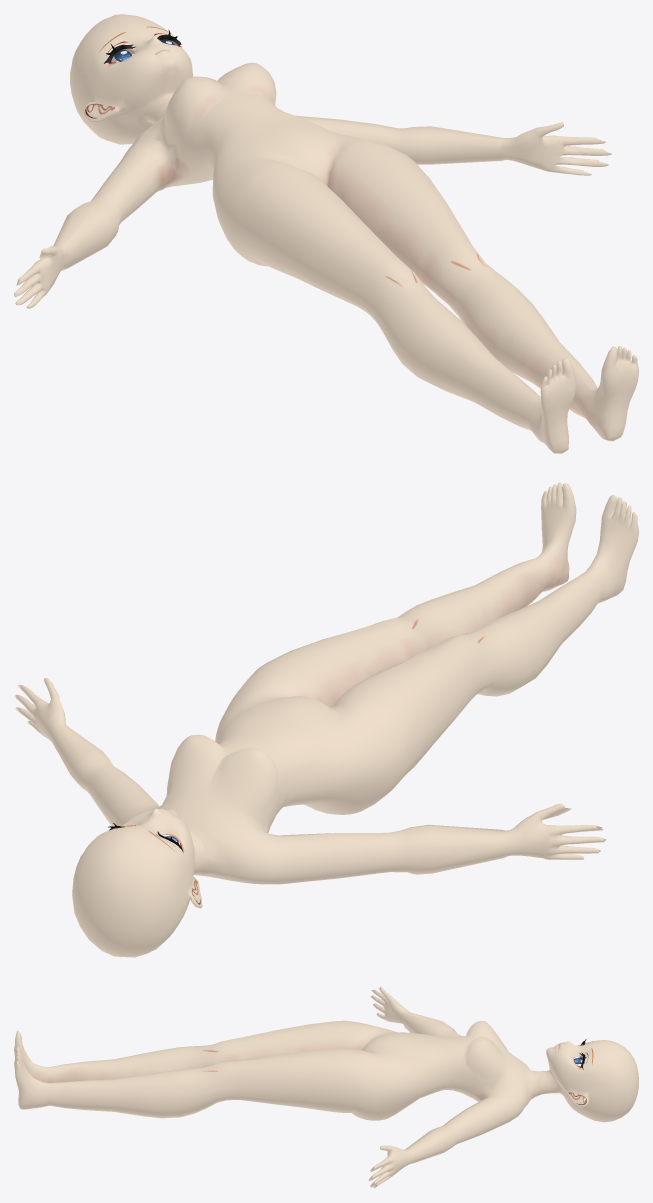
Rendered from character_tall.glb.
3 renders of one model, top to bottom at view 1: azimuth 30°, elevation 25°; view 2: azimuth 150°, elevation 25°; view 3: azimuth 270°, elevation 25°, orthographic. The views are drawn at different scales.
Visible parts, largest first — view 1: Body, Head; view 2: Body, Head; view 3: Body, Head.
Part boxes in pixels (<box>): Body: <box>14,62,638,453</box>; Head: <box>70,14,192,144</box>; Body: <box>14,482,638,884</box>; Head: <box>72,808,205,957</box>; Body: <box>14,986,534,1188</box>; Head: <box>526,1039,638,1122</box>.
Bounding box in the file's own units: 57.89 × 13.05 × 83.04.
2 materials, 2 textured.
